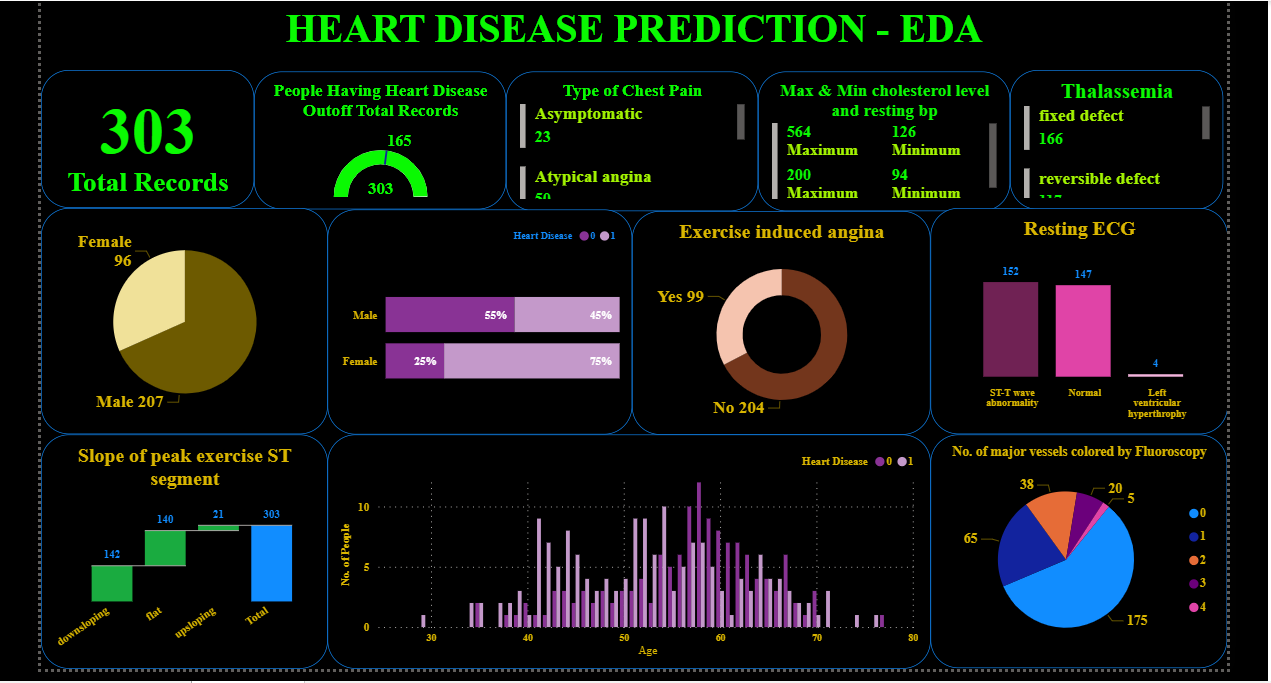

The page's visual inventory and layout, read from the dashboard file:
{"tool":"powerbi","page":{"name":"Page 1","canvas":[1280,720],"ordinal":0},"visuals":[{"type":"card","fields":{"Values":["CountNonNull(heart.output)"]},"box":[0,74.4,229.8,148.9],"z":0},{"type":"gauge","title":"People Having Heart Disease Outoff Total  Records","fields":{"Y":["CountNonNull(heart.Total Patients)"],"TargetValue":["Sum(heart.output)"]},"box":[229.8,76,271.8,148.9],"z":1000},{"type":"textbox","box":[0,0,1279.8,63.1],"z":2000},{"type":"multiRowCard","title":"Type of Chest Pain","fields":{"Values":["Count(heart.cp)","CountNonNull(heart.cp)"]},"box":[501.6,76,271.8,150.5],"z":3000},{"type":"multiRowCard","title":"Max & Min cholesterol level and resting bp","fields":{"Values":["Max(heart.chol)","Min(heart.chol)1","Max(heart.trtbps)","Min(heart.trtbps)1"]},"box":[773.4,76,271.8,150.5],"z":4000},{"type":"multiRowCard","title":"Thalassemia","fields":{"Values":["CountNonNull(heart.thalachh)","heart.thalassemia"]},"box":[1045.2,74.4,229.8,150.5],"z":5000},{"type":"hundredPercentStackedBarChart","fields":{"Category":["heart.sex"],"Y":["CountNonNull(heart.Total Patients)"],"Series":["heart.output"]},"box":[309,224.9,328.4,242.7],"z":6000},{"type":"pieChart","fields":{"Category":["heart.sex"],"Y":["Sum(heart.Total Patients)"]},"box":[0,223.3,309,244.3],"z":7000},{"type":"donutChart","title":"Exercise induced angina","fields":{"Category":["heart.exng"],"Y":["Sum(heart.Total Patients)"]},"box":[637.5,226.5,322,241.1],"z":8000},{"type":"columnChart","title":"Resting ECG","fields":{"Category":["heart.restecg"],"Y":["Sum(heart.Total Patients)"]},"box":[959.5,223.3,320.4,244.3],"z":9000},{"type":"waterfallChart","title":"Slope of peak exercise ST segment","fields":{"Category":["heart.slp"],"Y":["Sum(heart.Total Patients)"]},"box":[0,467.6,309,252.4],"z":10000},{"type":"clusteredColumnChart","fields":{"Series":["heart.output"],"Y":["CountNonNull(heart.Total Patients)"],"Category":["heart.age"]},"box":[309,467.6,650.4,252.4],"z":11000},{"type":"pieChart","title":"No. of major vessels colored by Fluoroscopy","fields":{"Y":["Sum(heart.Total Patients)"],"Category":["heart.caa"]},"box":[959,468,320,252],"z":12000}]}

Visuals, with their boxes on the page's 1280x720 design canvas (x1, y1, x2, y2). These are canvas units, not pixel positions in the 1271x683 screenshot, which may show the page scaled, cropped or inside an application window:
card - CountNonNull(heart.output): 0:74:230:223
"People Having Heart Disease Outoff Total  Records" gauge: 230:76:502:225
textbox: 0:0:1280:63
"Type of Chest Pain" multiRowCard: 502:76:773:226
"Max & Min cholesterol level and resting bp" multiRowCard: 773:76:1045:226
"Thalassemia" multiRowCard: 1045:74:1275:225
hundredPercentStackedBarChart - heart.sex x CountNonNull(heart.Total Patients): 309:225:637:468
pieChart - heart.sex x Sum(heart.Total Patients): 0:223:309:468
"Exercise induced angina" donutChart: 638:226:960:468
"Resting ECG" columnChart: 960:223:1280:468
"Slope of peak exercise ST segment" waterfallChart: 0:468:309:720
clusteredColumnChart - heart.output x CountNonNull(heart.Total Patients): 309:468:959:720
"No. of major vessels colored by Fluoroscopy" pieChart: 959:468:1279:720
